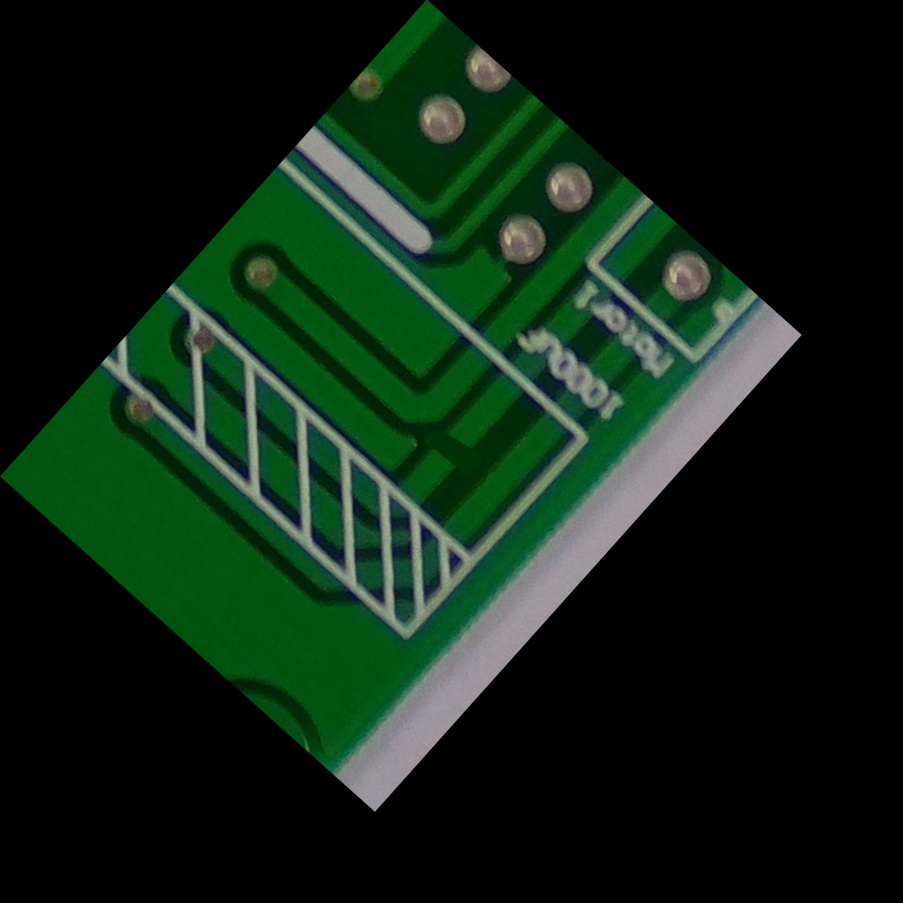open_circuit: (412, 413, 491, 492)
